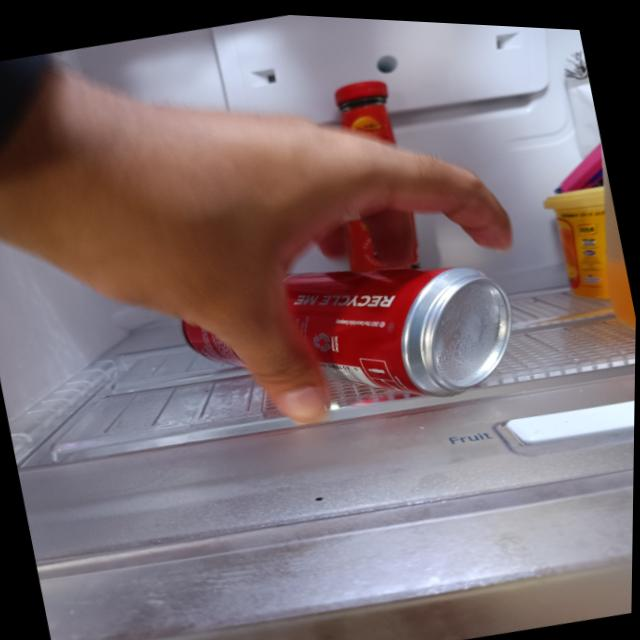coke: (173, 216, 530, 450)
